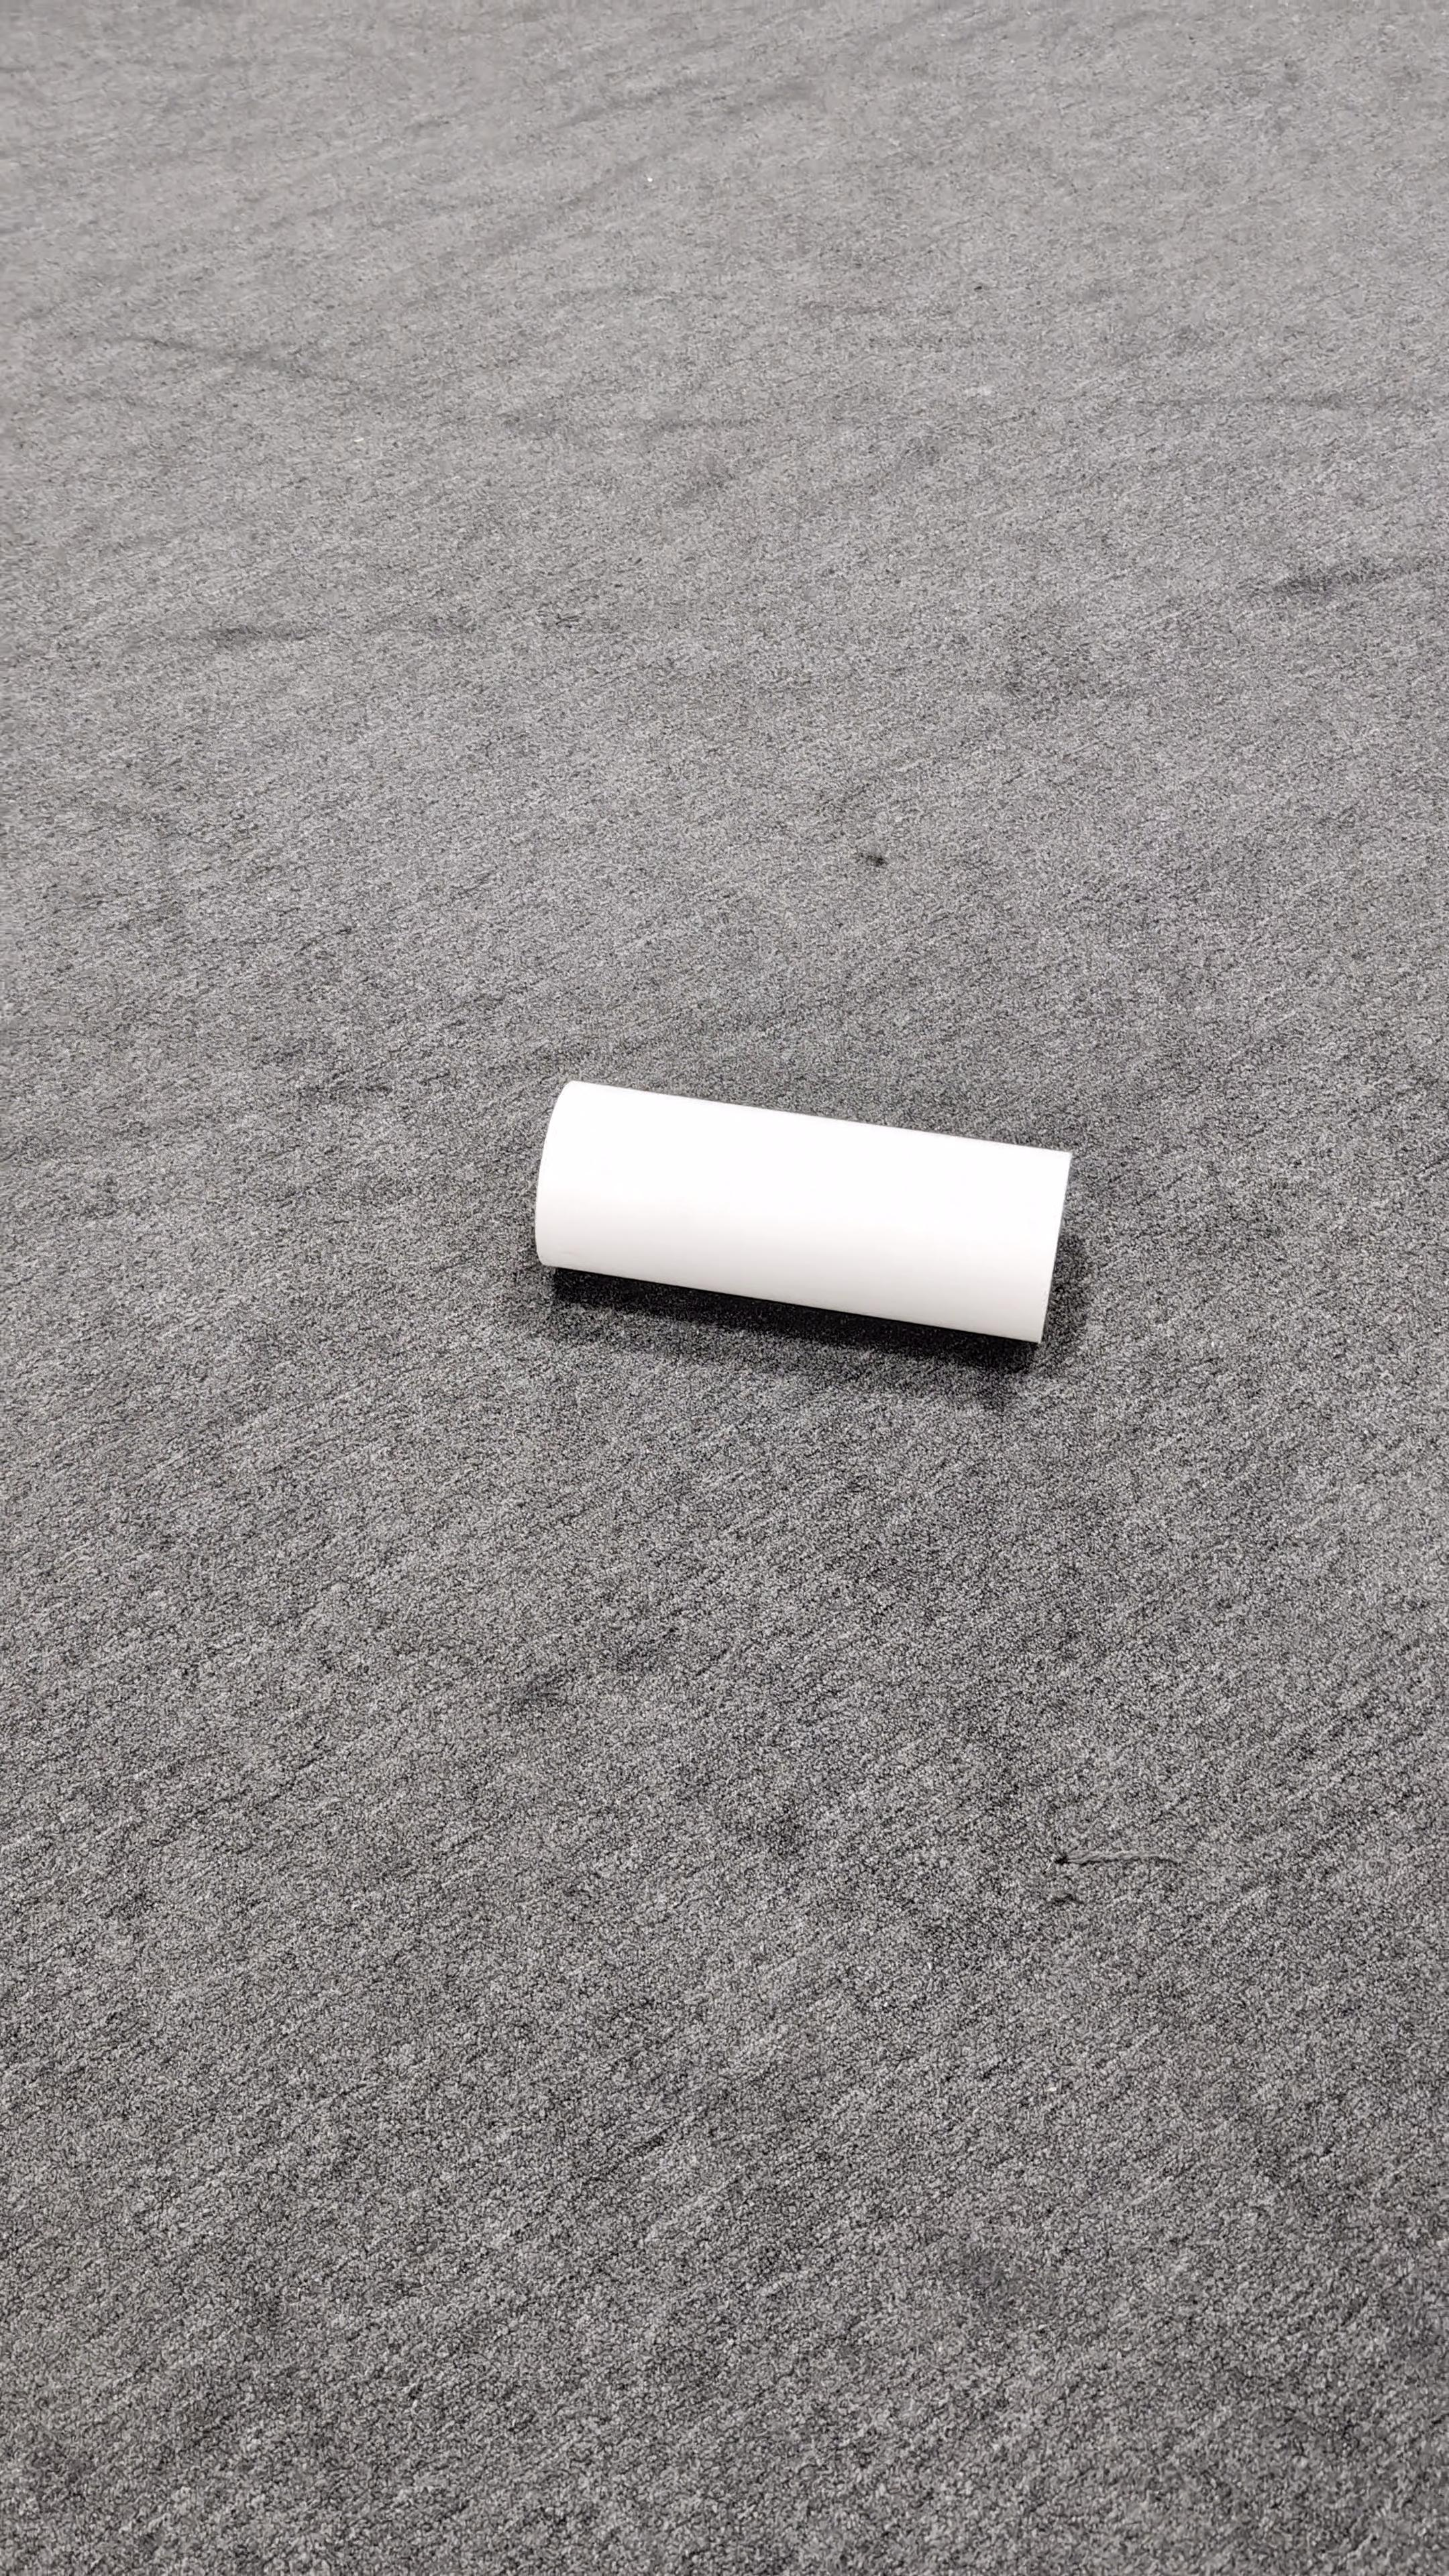coral: (538, 1081, 1074, 1350)
